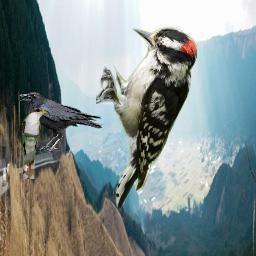Crow: (19, 92, 102, 154)
Cuckoo: (21, 107, 50, 179)
Woodpecker: (96, 24, 197, 210)
